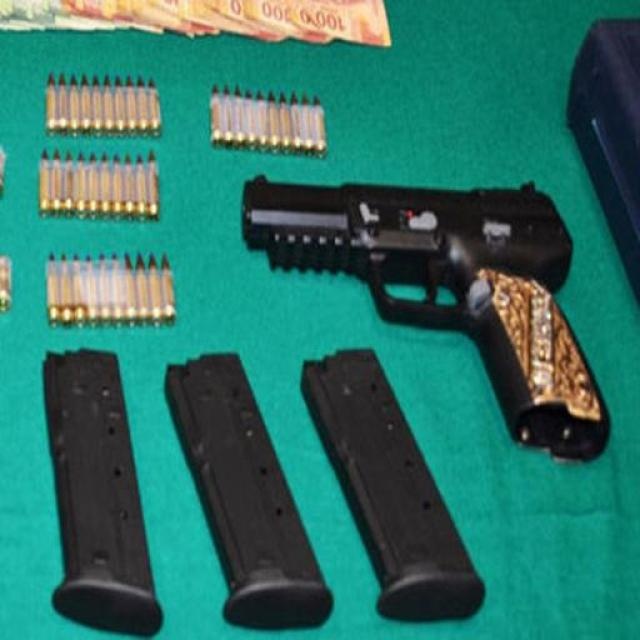pistol: (237, 151, 610, 465)
